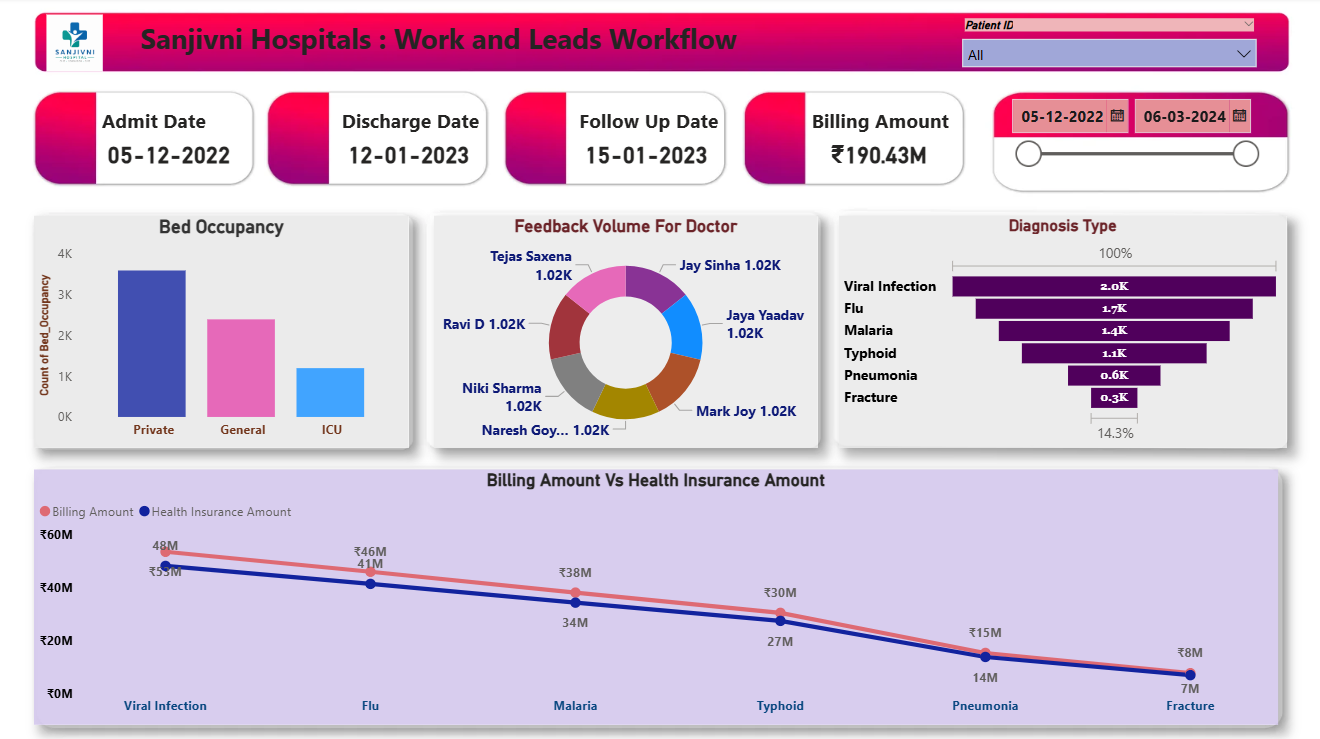

The dashboard page shown, as its layout file describes it:
{"tool":"powerbi","page":{"name":"Page 1","canvas":[1280,720],"ordinal":0},"visuals":[{"type":"image","box":[34.3,16.5,78.2,54.9],"z":0},{"type":"textbox","box":[131.7,16.5,609.3,53.5],"z":1000},{"type":"slicer","fields":{"Values":["Sheet1.Patient_ID"]},"box":[919.4,15.1,304.6,57.6],"z":2000},{"type":"card","fields":{"Values":["Min(Sheet1.Admit_Date)"]},"box":[94.7,130.4,140,43.9],"z":3000},{"type":"textbox","box":[94.7,101.5,140,41.2],"z":4000},{"type":"textbox","box":[325.2,101.5,150.9,41.2],"z":5000},{"type":"card","fields":{"Values":["Min(Sheet1.Discharge_Date)"]},"box":[325.2,130.4,140,43.9],"z":6000},{"type":"card","fields":{"Values":["Min(Sheet1.Followup Date)"]},"box":[554.4,130.4,140,43.9],"z":7000},{"type":"textbox","box":[554.4,101.5,157.8,39.8],"z":8000},{"type":"card","fields":{"Values":["Sum(Sheet1.Billing Amount)"]},"box":[779.4,130.4,140,43.9],"z":9000},{"type":"textbox","box":[779.4,101.5,153.7,39.8],"z":10000},{"type":"slicer","fields":{"Values":["Sheet1.Admit_Date"]},"box":[964.7,87.8,259.3,100.2],"z":11000},{"type":"columnChart","title":"Bed Occupancy ","fields":{"Category":["Sheet1.Bed_Occupancy"],"Y":["CountNonNull(Sheet1.Bed_Occupancy)"]},"box":[33.8,211.1,361.9,224.4],"z":12000},{"type":"donutChart","title":"Feedback Volume For Doctor","fields":{"Category":["Sheet1.Doctor"],"Y":["CountNonNull(Sheet1.Doctor)"]},"box":[419.8,211.1,370.4,224.4],"z":13000},{"type":"funnel","title":"Diagnosis Type","fields":{"Category":["Sheet1.Diagnosis"],"Y":["CountNonNull(Sheet1.Diagnosis)"]},"box":[810.7,211.1,431.9,224.4],"z":14000},{"type":"lineChart","title":"Billing Amount Vs Health Insurance Amount","fields":{"Y":["Sum(Sheet1.Billing Amount)","Sum(Sheet1.Health Insurance Amount)"],"Category":["Sheet1.Diagnosis"]},"box":[33.8,456,1200.4,246.1],"z":15000}]}

Visuals, with their boxes in screenshot pixels (x1, y1, x2, y2), scaled from the page's 1280x720 canvas onto the 1320x739 screenshot:
image: {"left": 35, "top": 17, "right": 116, "bottom": 73}
textbox: {"left": 136, "top": 17, "right": 764, "bottom": 72}
slicer - Sheet1.Patient_ID: {"left": 948, "top": 15, "right": 1262, "bottom": 75}
card - Min(Sheet1.Admit_Date): {"left": 98, "top": 134, "right": 242, "bottom": 179}
textbox: {"left": 98, "top": 104, "right": 242, "bottom": 146}
textbox: {"left": 335, "top": 104, "right": 491, "bottom": 146}
card - Min(Sheet1.Discharge_Date): {"left": 335, "top": 134, "right": 480, "bottom": 179}
card - Min(Sheet1.Followup Date): {"left": 572, "top": 134, "right": 716, "bottom": 179}
textbox: {"left": 572, "top": 104, "right": 734, "bottom": 145}
card - Sum(Sheet1.Billing Amount): {"left": 804, "top": 134, "right": 948, "bottom": 179}
textbox: {"left": 804, "top": 104, "right": 962, "bottom": 145}
slicer - Sheet1.Admit_Date: {"left": 995, "top": 90, "right": 1262, "bottom": 193}
"Bed Occupancy " columnChart: {"left": 35, "top": 217, "right": 408, "bottom": 447}
"Feedback Volume For Doctor" donutChart: {"left": 433, "top": 217, "right": 815, "bottom": 447}
"Diagnosis Type" funnel: {"left": 836, "top": 217, "right": 1281, "bottom": 447}
"Billing Amount Vs Health Insurance Amount" lineChart: {"left": 35, "top": 468, "right": 1273, "bottom": 721}
